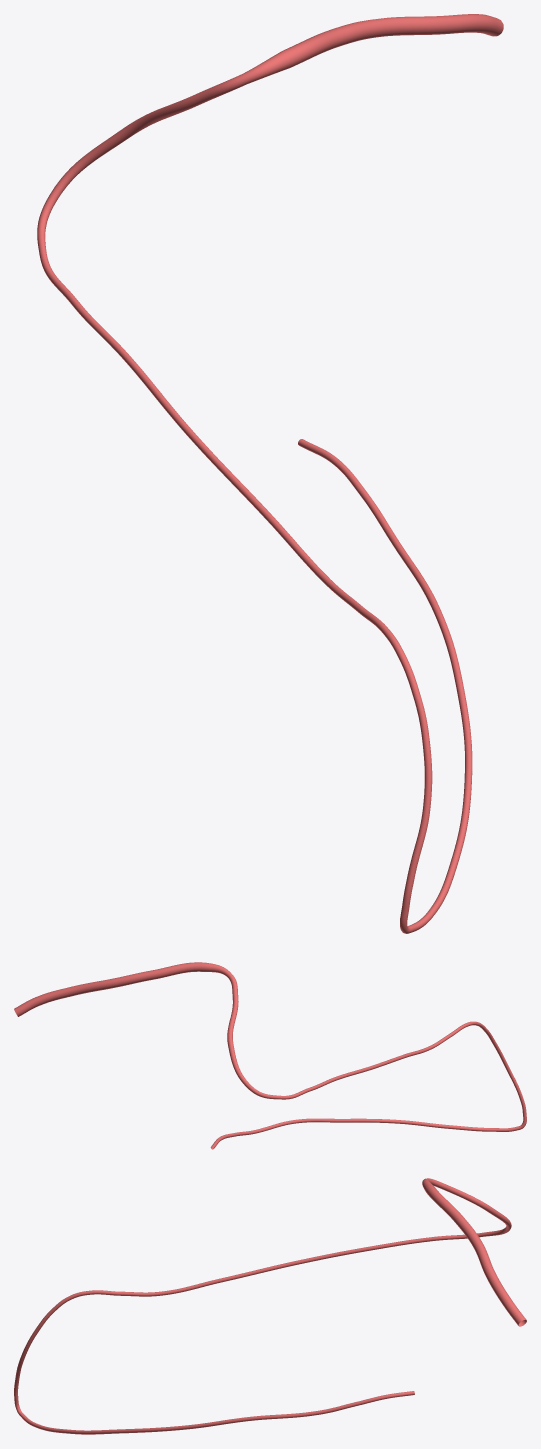
The model's file is Artery_of_pterygoid_canal.l_BezierCurve.103.glb.
The picture shows the model from 3 angles, top to bottom: view 1: azimuth 30°, elevation 25°; view 2: azimuth 150°, elevation 25°; view 3: azimuth 270°, elevation 25°; orthographic projection. The views are drawn at different scales.
Parts seen in each view (by area): view 1: Artery_of_pterygoid_canal.l_BezierCurve.103; view 2: Artery_of_pterygoid_canal.l_BezierCurve.103; view 3: Artery_of_pterygoid_canal.l_BezierCurve.103.
Boxes of the visible parts, left/top/right/bottom form: Artery_of_pterygoid_canal.l_BezierCurve.103: left=37, top=14, right=503, bottom=933; Artery_of_pterygoid_canal.l_BezierCurve.103: left=14, top=962, right=526, bottom=1149; Artery_of_pterygoid_canal.l_BezierCurve.103: left=14, top=1178, right=526, bottom=1434.
Bounding box in the file's own units: 0.0346 × 0.0322 × 0.0499.
